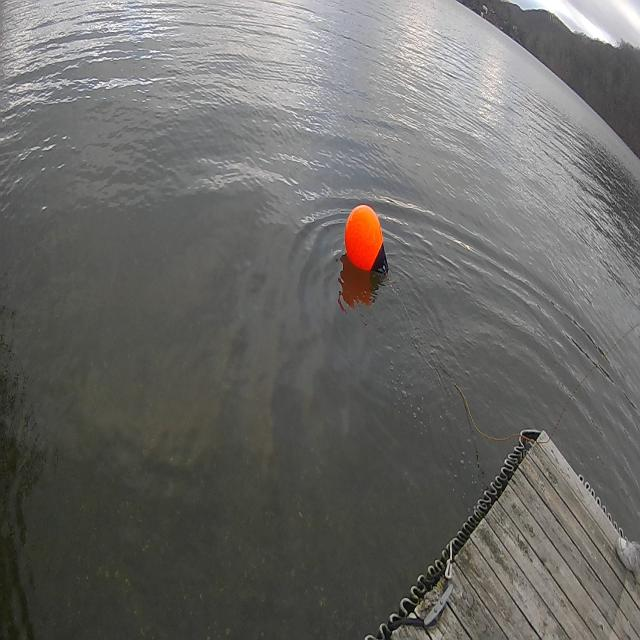Buoy: (341, 193, 390, 287)
